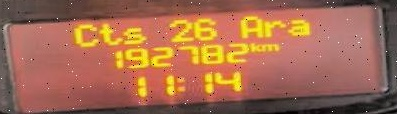1: (128, 73, 148, 98), (159, 72, 175, 97), (111, 47, 125, 70), (201, 70, 214, 93)
2: (167, 17, 194, 42), (148, 44, 172, 66), (225, 41, 248, 62)
4: (212, 70, 240, 91)
6: (195, 16, 219, 41)
7: (176, 44, 199, 64)
8: (201, 43, 225, 64)
9: (122, 46, 146, 67)
X: (72, 22, 98, 47), (238, 14, 263, 37), (98, 21, 122, 44), (122, 25, 146, 44), (286, 17, 309, 36), (262, 18, 286, 35), (175, 75, 186, 93), (249, 41, 262, 52), (261, 43, 278, 51)
